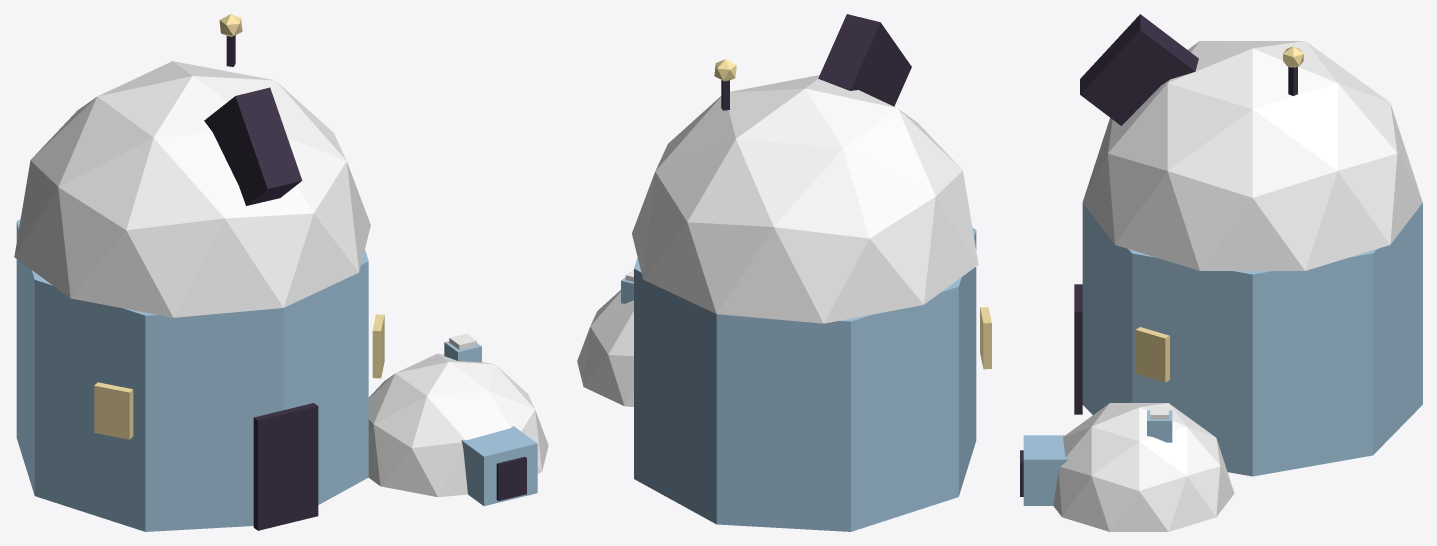
Rendered from ice-landmark-s2.glb.
3 renders of one model, left to right at view 1: azimuth 30°, elevation 25°; view 2: azimuth 150°, elevation 25°; view 3: azimuth 270°, elevation 25°, orthographic. The views are drawn at different scales.
Parts seen in each view (by area): view 1: ice-landmark-s2; view 2: ice-landmark-s2; view 3: ice-landmark-s2.
Boxes of the visible parts, <box> form: ice-landmark-s2: <box>14,14,548,531</box>; ice-landmark-s2: <box>577,14,991,531</box>; ice-landmark-s2: <box>1020,14,1422,531</box>.
Bounding box in the file's own units: 1.16 × 1.05 × 0.994.
